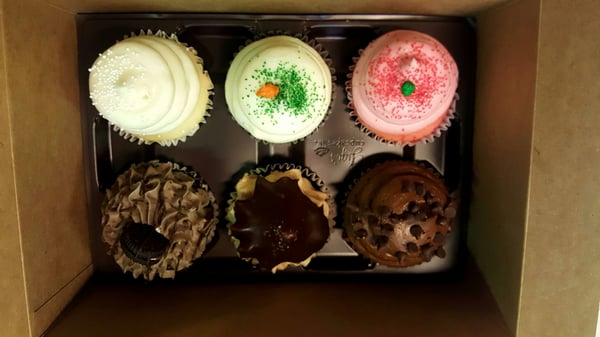sushi: (224, 157, 335, 272), (350, 30, 459, 145)
